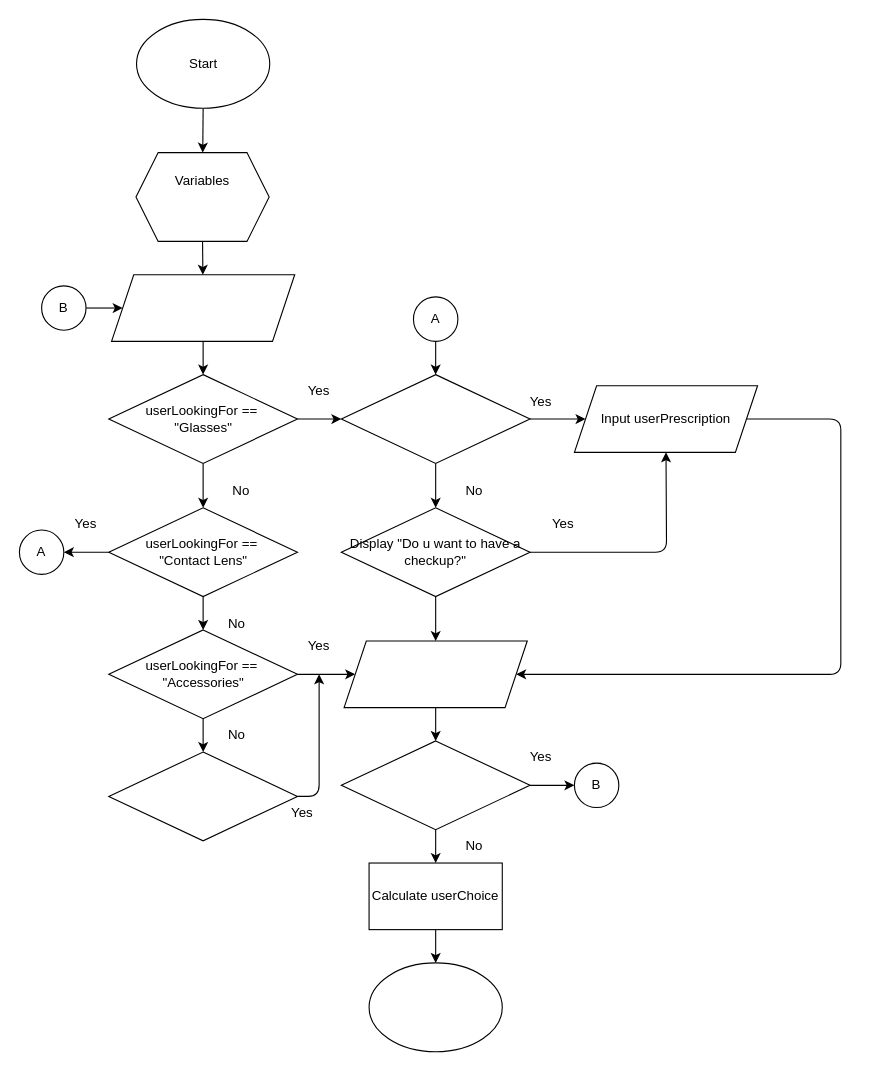
Image size: 869x1071. Some labels were removed from this diagram. Here are the shapes that lost their labels. From the top down, the centre of each, then its label:
point (202, 307): Input userLookingFor
point (435, 418): Display "Do u have your prescription with u?"
point (435, 674): Input userChoice
point (202, 796): userLookingFor == "Add-ons"
point (435, 785): Display "Is there anything else?"
point (435, 1007): End
